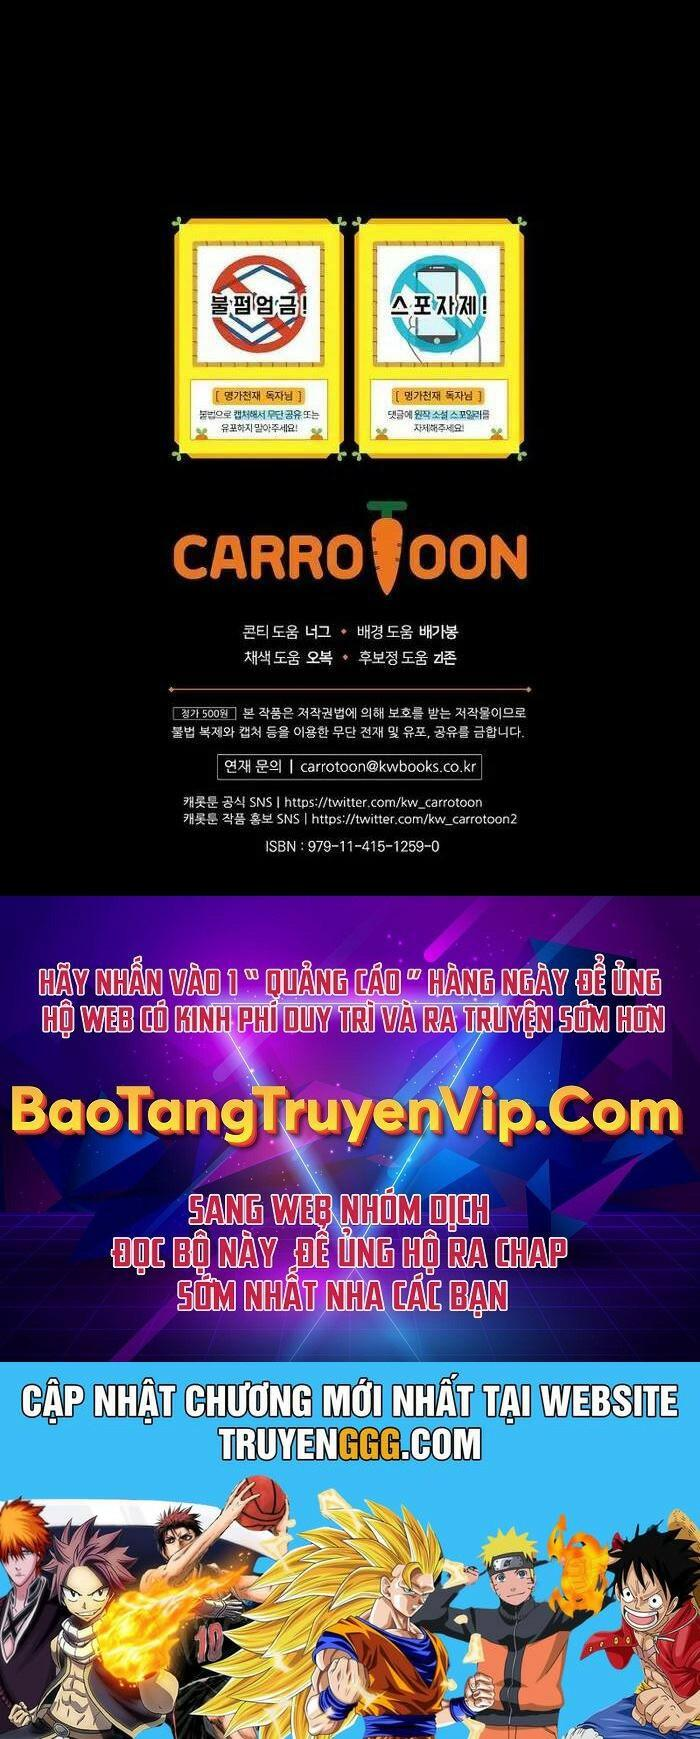quangcao: (0, 883, 700, 1739)
